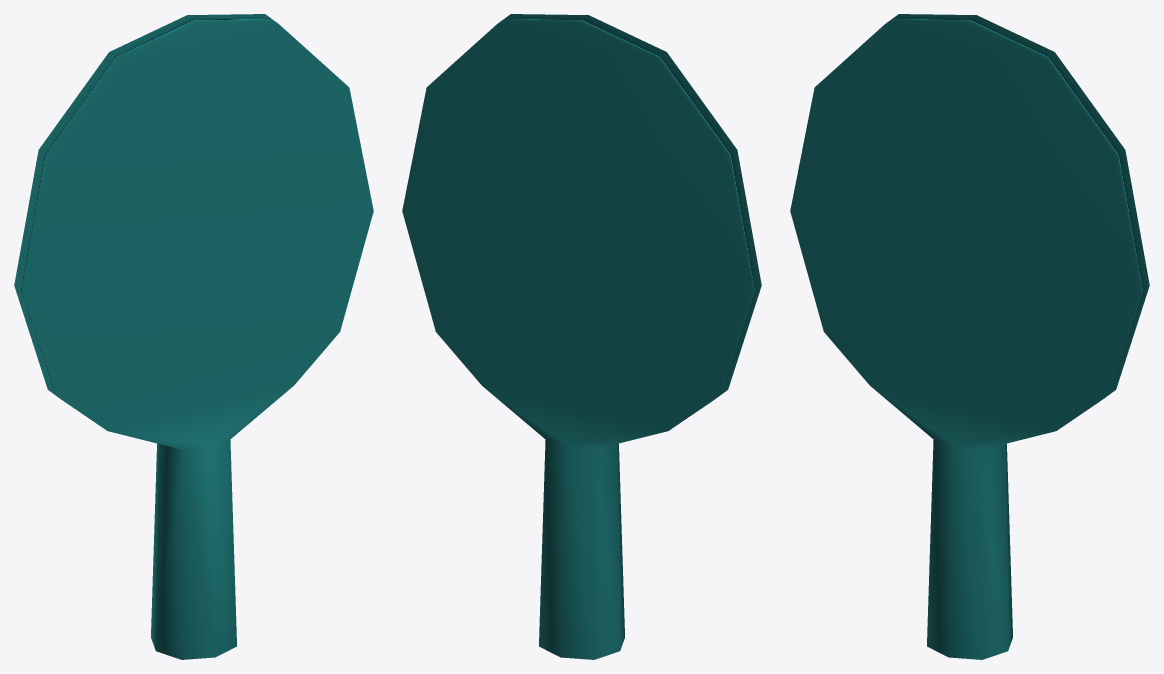
File: table_tennis_racket_collider.fbx
3 renders of one model, left to right at view 1: azimuth 30°, elevation 25°; view 2: azimuth 150°, elevation 25°; view 3: azimuth 330°, elevation 25°, orthographic.
Visible parts, largest first — view 1: table_tennis_racket_collider; view 2: table_tennis_racket_collider; view 3: table_tennis_racket_collider.
Boxes of the visible parts, box(x1,y1,x2,y2) form: table_tennis_racket_collider: box(14, 14, 373, 659); table_tennis_racket_collider: box(402, 14, 761, 659); table_tennis_racket_collider: box(790, 14, 1149, 659).
Bounding box in the file's own units: 14.85 × 25.87 × 3.16.
